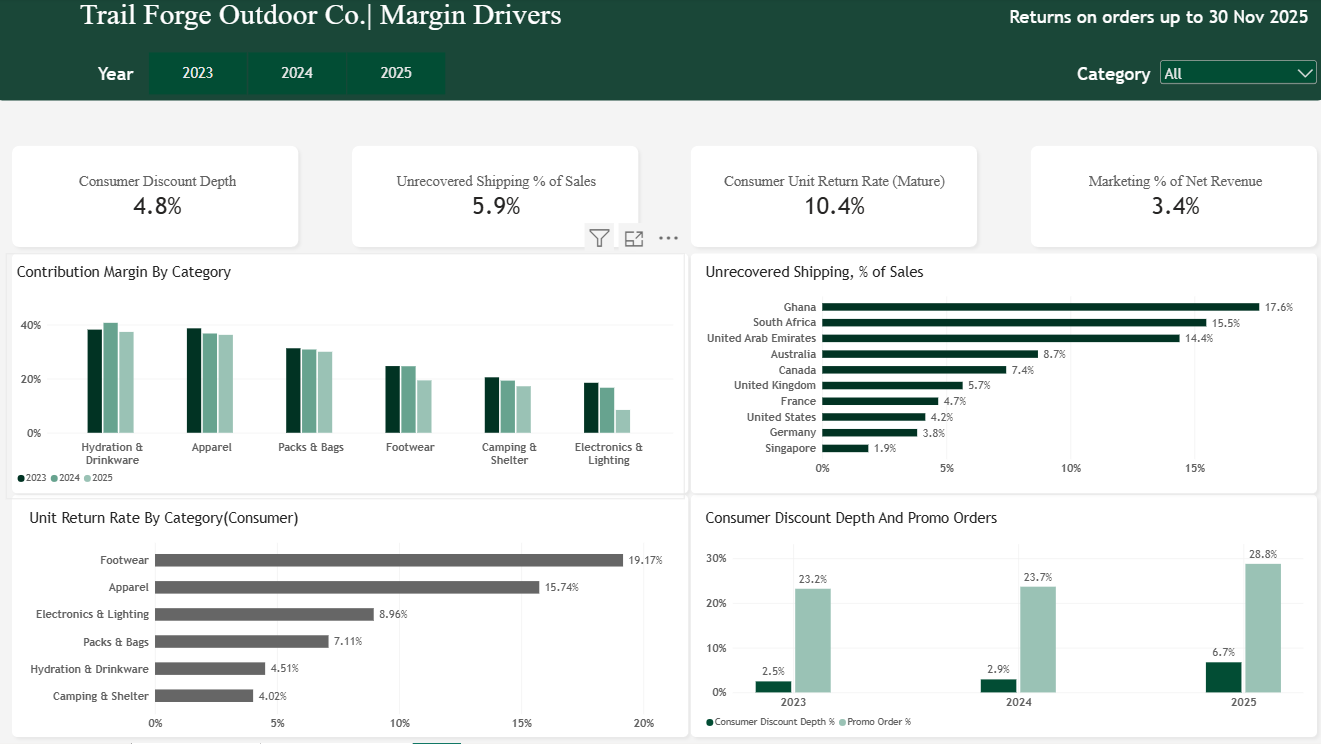

The page's visual inventory and layout, read from the dashboard file:
{"tool":"powerbi","page":{"name":"Margin Drivers","canvas":[1920,1080],"ordinal":1},"visuals":[{"type":"shape","box":[0,0,1920.1,150.2],"z":0},{"type":"shape","box":[12.7,711.2,997.1,369.2],"z":1000},{"type":"shape","box":[995.3,711.2,924.7,369.2],"z":2000},{"type":"shape","box":[12.7,361.9,997.1,365.6],"z":3000},{"type":"shape","box":[995.3,361.9,924.7,365.6],"z":4000},{"type":"shape","box":[12.7,205.4,432.5,164.7],"z":4001},{"type":"shape","box":[504.3,205.4,432.5,164.7],"z":4002},{"type":"shape","box":[995.9,205.4,432.5,164.7],"z":4003},{"type":"shape","box":[1487.5,205.4,432.5,164.7],"z":4004},{"type":"cardVisual","fields":{"Data":["Dax Measures.Consumer Discount Depth %"]},"box":[30.8,219,403.6,143],"z":4005},{"type":"cardVisual","fields":{"Data":["Dax Measures.Marketing % of Net Revenue"]},"box":[1505.6,219,401.7,143],"z":4006},{"type":"cardVisual","fields":{"Data":["Dax Measures.Consumer Unit Return Rate (Mature)"]},"box":[1010.4,219,405.4,143],"z":4007},{"type":"cardVisual","fields":{"Data":["Dax Measures.Unrecovered Shipping % of Sales"]},"box":[524.2,219,396.3,143],"z":4008},{"type":"clusteredColumnChart","title":"Contribution Margin By Category","fields":{"Category":["Lines.category"],"Series":["Dim Date.year"],"Y":["Dax Measures.Line Margin %"]},"box":[12.7,371,982.6,356.5],"z":4009},{"type":"clusteredBarChart","title":"Unrecovered Shipping, % of Sales","fields":{"Category":["Orders.ship_country"],"Y":["Dax Measures.Unrecovered Shipping % of Sales"]},"box":[1009.8,371,897.6,340.2],"z":4010},{"type":"clusteredBarChart","title":"Unit Return Rate By Category(Consumer)","fields":{"Category":["Lines.category"],"Y":["Dax Measures.Line Unit Return Rate (Consumer, Mature)"]},"box":[30.8,727.5,964.5,352.9],"z":4011},{"type":"clusteredColumnChart","title":"Consumer Discount Depth And Promo Orders ","fields":{"Category":["Dim Date.year"],"Y":["Dax Measures.Consumer Discount Depth %","Dax Measures.Promo Order %"]},"box":[1009.8,727.5,897.6,352.9],"z":4012},{"type":"textbox","box":[99.5,0,738.3,63.3],"z":4013},{"type":"textbox","box":[1444.1,12.7,475.9,63.3],"z":4014},{"type":"slicer","fields":{"Values":["Dim Date.year"]},"box":[199.1,77.8,468.7,65.1],"z":4015},{"type":"textbox","box":[128.5,95.9,86.9,47.1],"z":4016},{"type":"slicer","fields":{"Values":["Lines.category"]},"box":[1680,87,236,46],"z":4017},{"type":"textbox","box":[1550.9,95.9,132.1,43.4],"z":4018}]}

Visuals, with their boxes in screenshot pixels (x1, y1, x2, y2), scaled from the page's 1920x1080 canvas onto the 1321x744 screenshot:
shape: bbox(0, 0, 1320, 103)
shape: bbox(9, 490, 695, 743)
shape: bbox(685, 490, 1320, 743)
shape: bbox(9, 249, 695, 501)
shape: bbox(685, 249, 1320, 501)
shape: bbox(9, 141, 306, 255)
shape: bbox(347, 141, 645, 255)
shape: bbox(685, 141, 983, 255)
shape: bbox(1023, 141, 1320, 255)
cardVisual - Dax Measures.Consumer Discount Depth %: bbox(21, 151, 299, 249)
cardVisual - Dax Measures.Marketing % of Net Revenue: bbox(1036, 151, 1312, 249)
cardVisual - Dax Measures.Consumer Unit Return Rate (Mature): bbox(695, 151, 974, 249)
cardVisual - Dax Measures.Unrecovered Shipping % of Sales: bbox(361, 151, 633, 249)
"Contribution Margin By Category" clusteredColumnChart: bbox(9, 256, 685, 501)
"Unrecovered Shipping, % of Sales" clusteredBarChart: bbox(695, 256, 1312, 490)
"Unit Return Rate By Category(Consumer)" clusteredBarChart: bbox(21, 501, 685, 743)
"Consumer Discount Depth And Promo Orders " clusteredColumnChart: bbox(695, 501, 1312, 743)
textbox: bbox(68, 0, 576, 44)
textbox: bbox(994, 9, 1320, 52)
slicer - Dim Date.year: bbox(137, 54, 459, 98)
textbox: bbox(88, 66, 148, 99)
slicer - Lines.category: bbox(1156, 60, 1318, 92)
textbox: bbox(1067, 66, 1158, 96)
